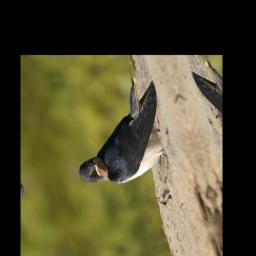Swallow: (52, 70, 182, 193)
